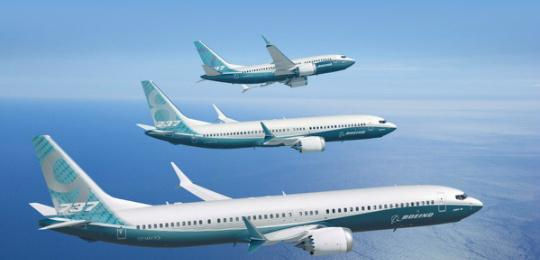airplane: (16, 131, 483, 247), (137, 78, 403, 154), (194, 35, 362, 84)
